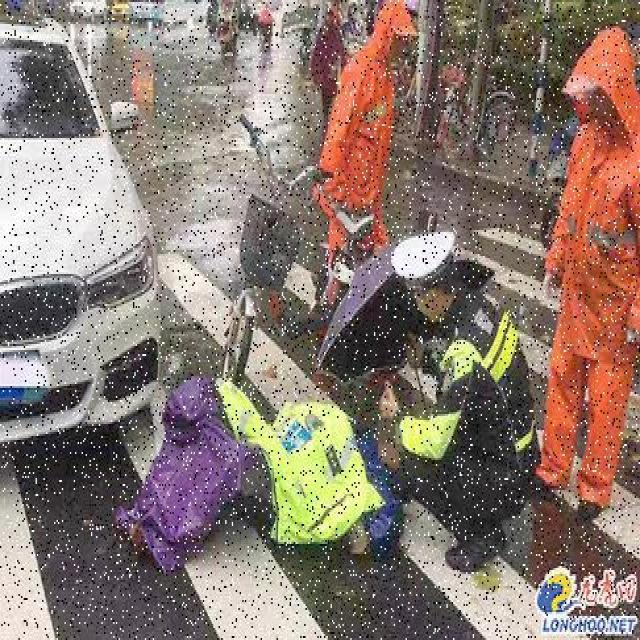fall: (124, 394, 388, 570)
